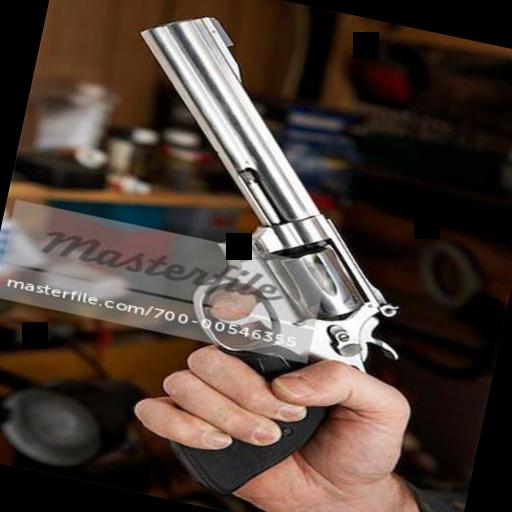Handgun: (42, 0, 433, 507)
